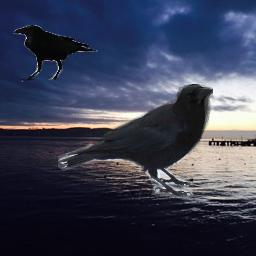Crow: (58, 84, 213, 198), (13, 25, 98, 82)
